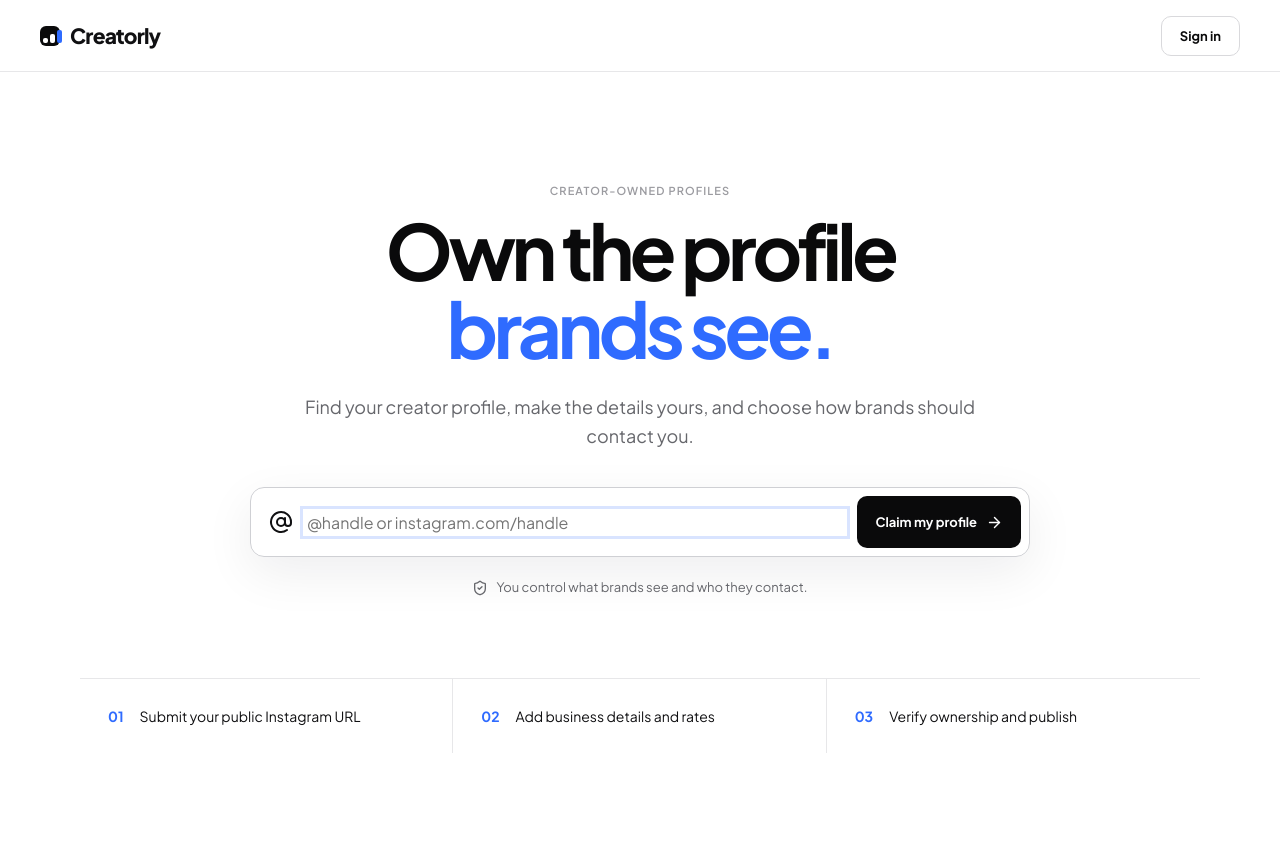
creator profile claim › starts from an Instagram handle and reaches the creator profile editor
Expected: the heading "Own the profile brands see." is shown, [386, 201, 894, 376]
In the field named "Instagram URL or handle": [575, 522] box [305, 510, 845, 534], type "@maya.creator"
Click the button "Claim my profile": [939, 522] box [857, 496, 1021, 548]
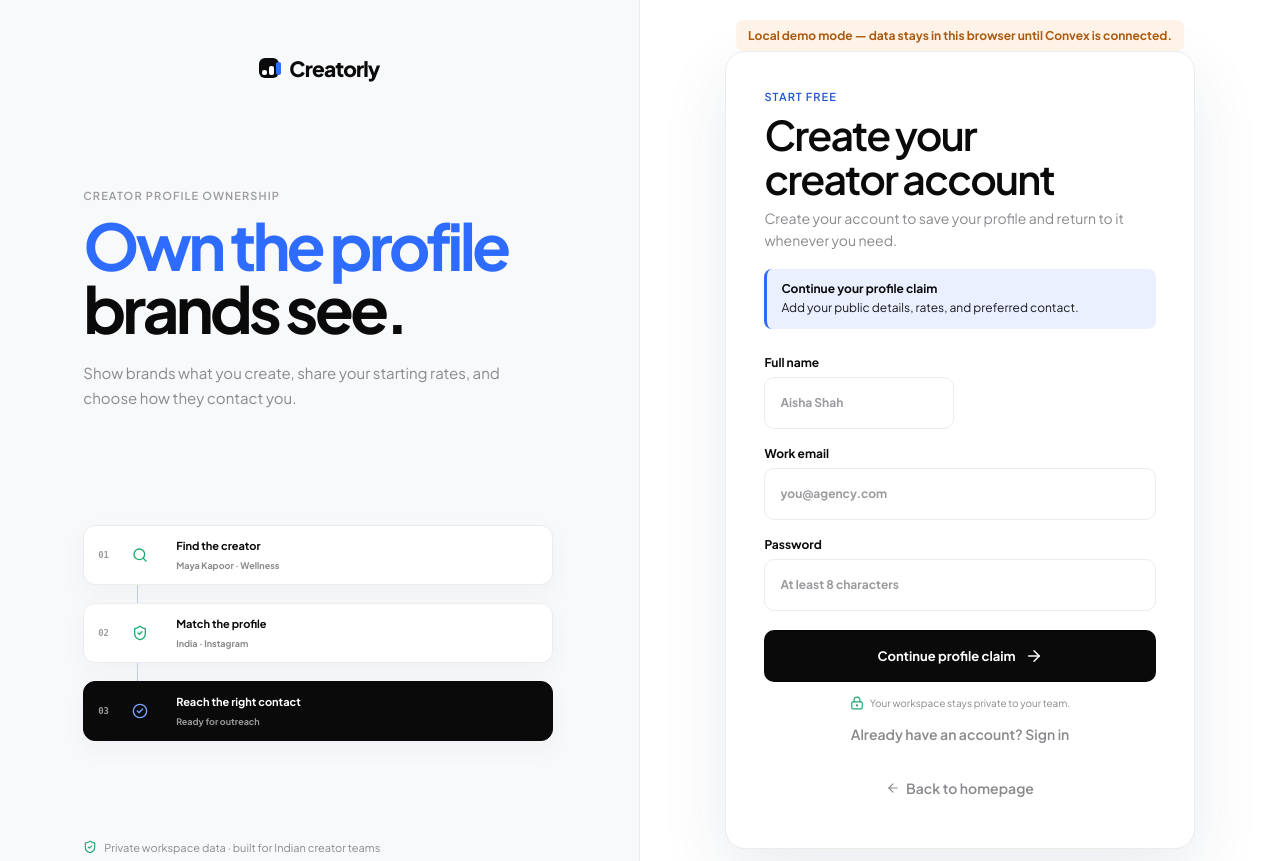
In the field labelled "Full name": [859, 403] box [764, 377, 954, 429], type "Maya Kapoor"
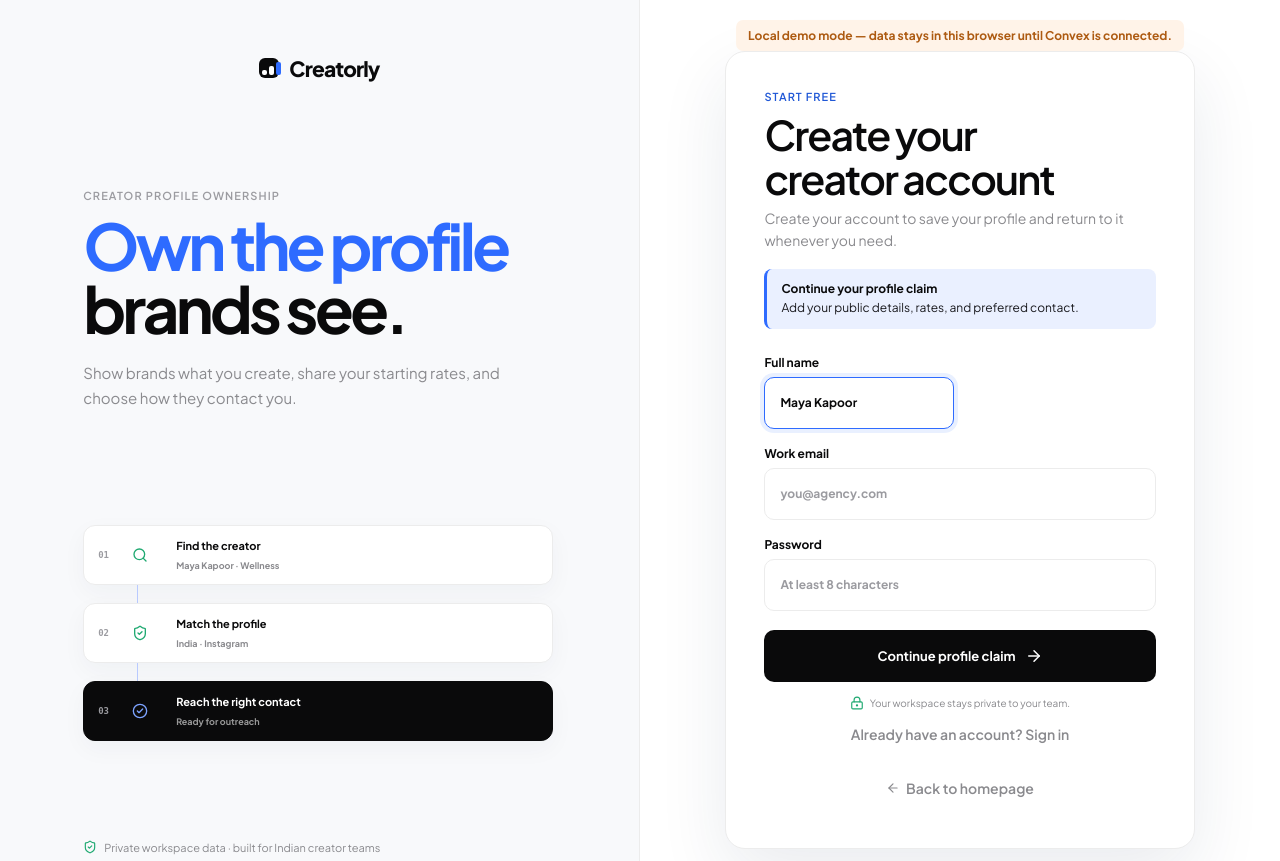
In the field labelled "Work email": [960, 494] box [764, 468, 1156, 520], type "maya@creator.test"
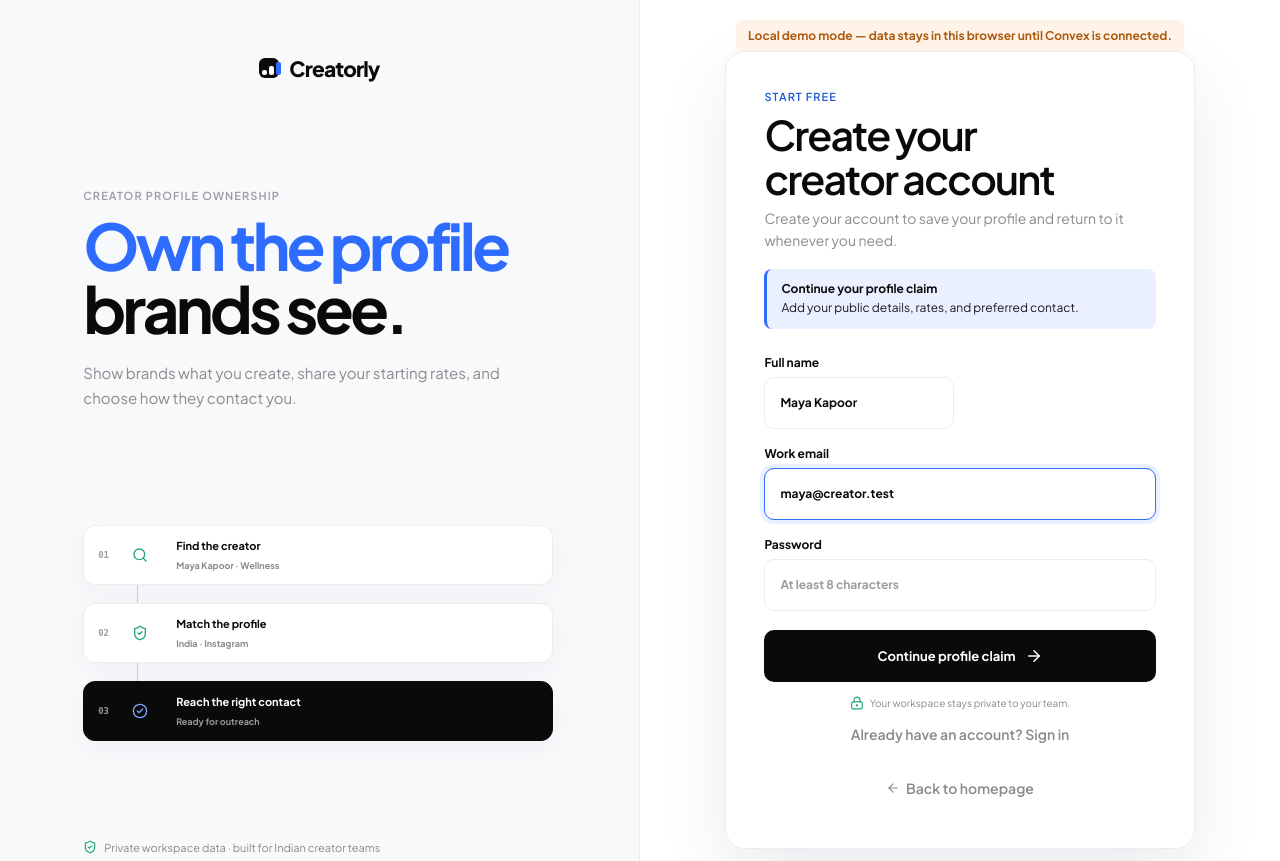
In the password field labelled "Password": [960, 585] box [764, 559, 1156, 611], type "creatorly123"
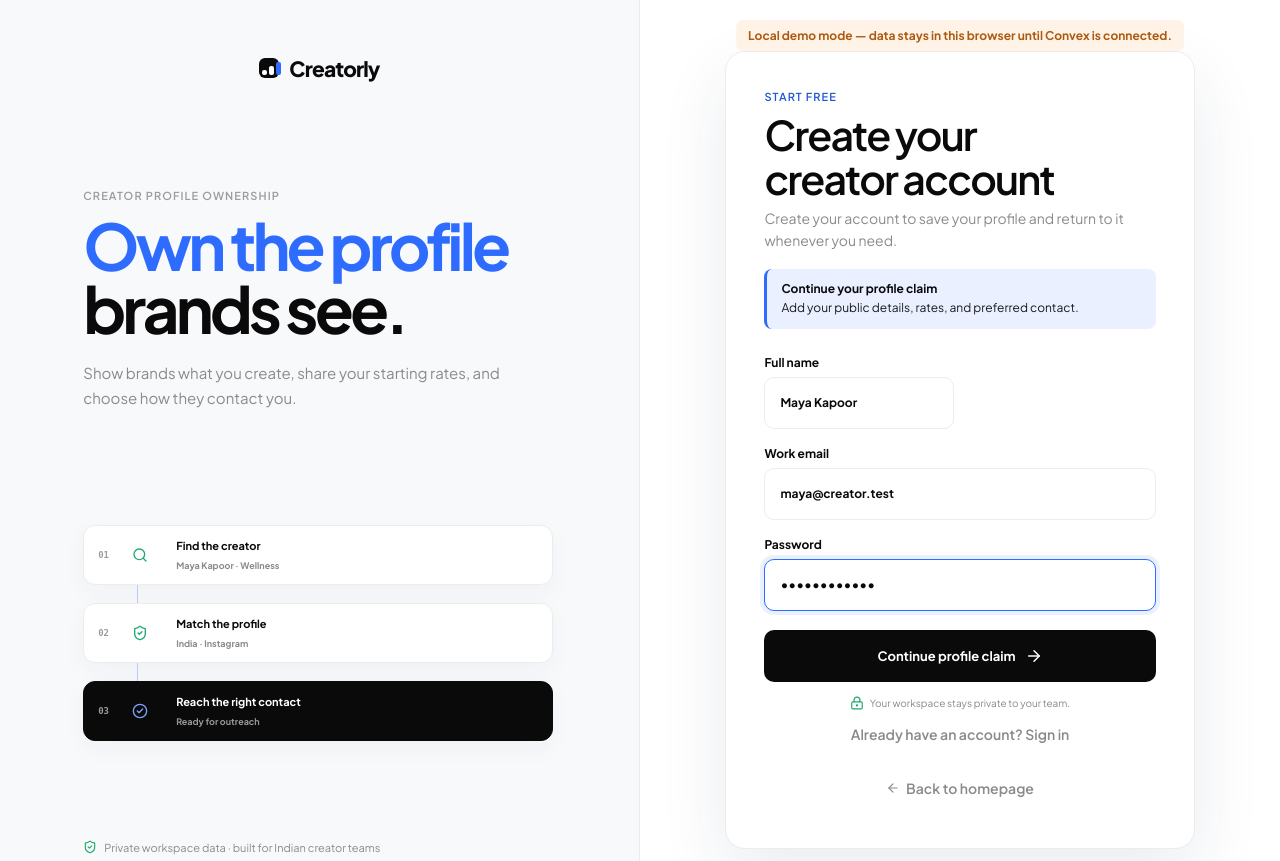
Click the button "Continue profile claim": [960, 656] box [764, 630, 1156, 682]
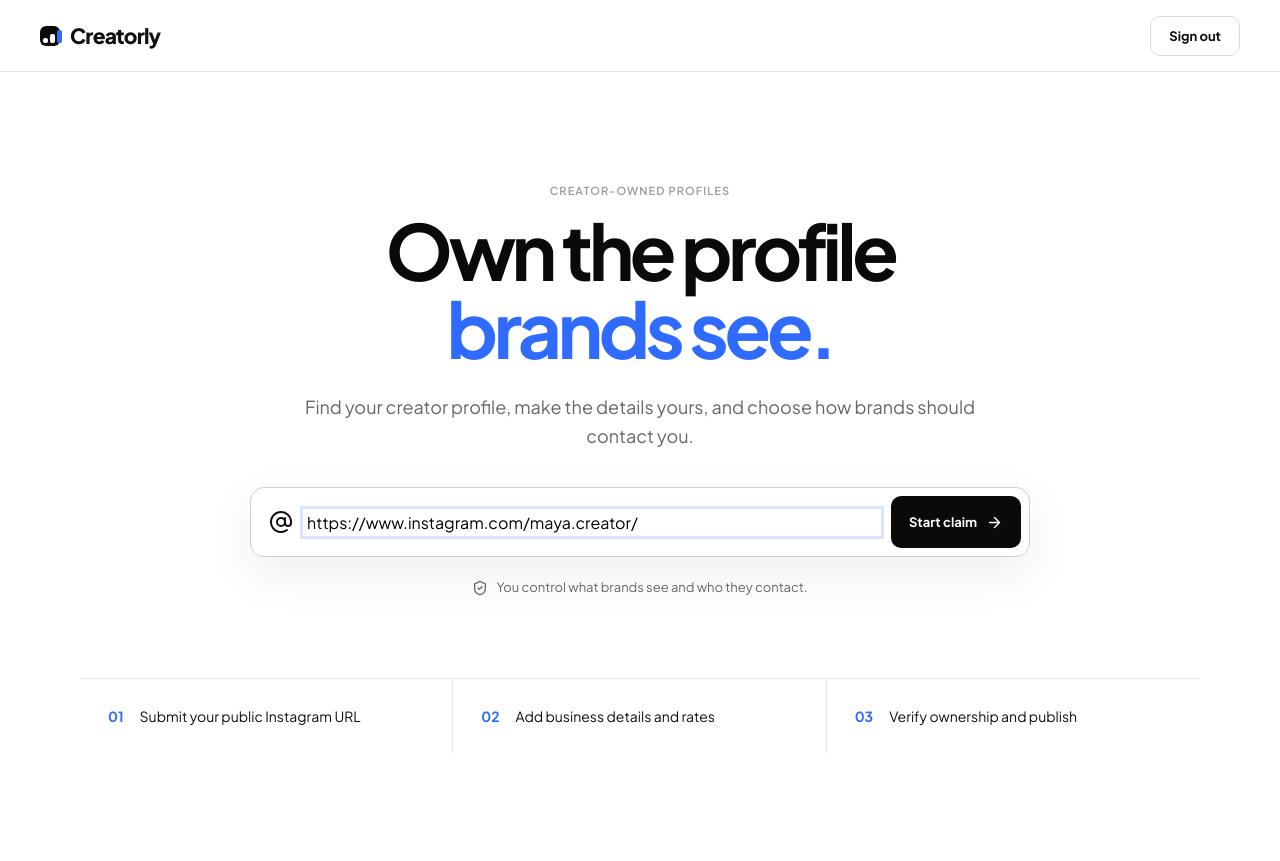
Click the button "Start claim": [956, 522] box [891, 496, 1021, 548]
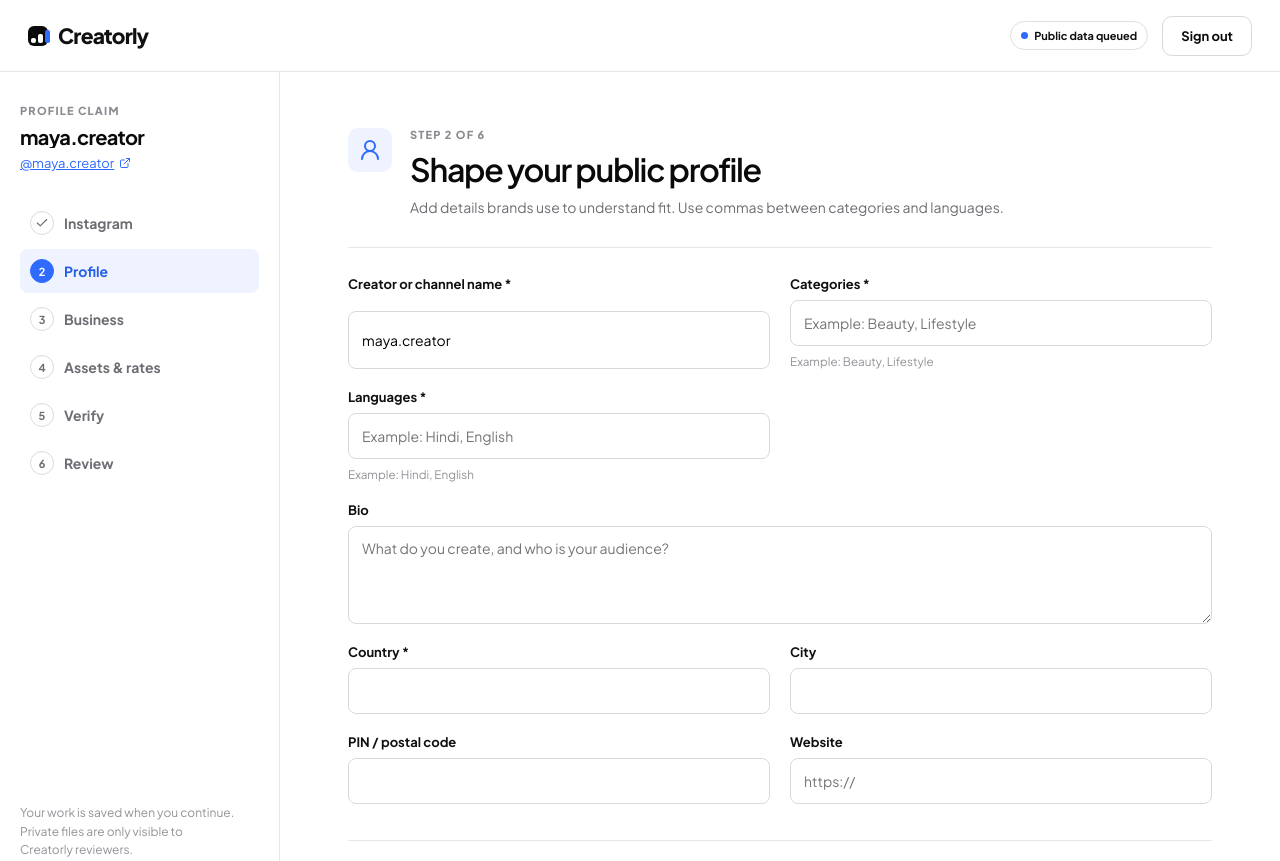
Expected: the field showing "maya.creator" is shown, [348, 311, 770, 369]
Expected: the heading "Shape your public profile" is shown, [410, 149, 761, 189]
